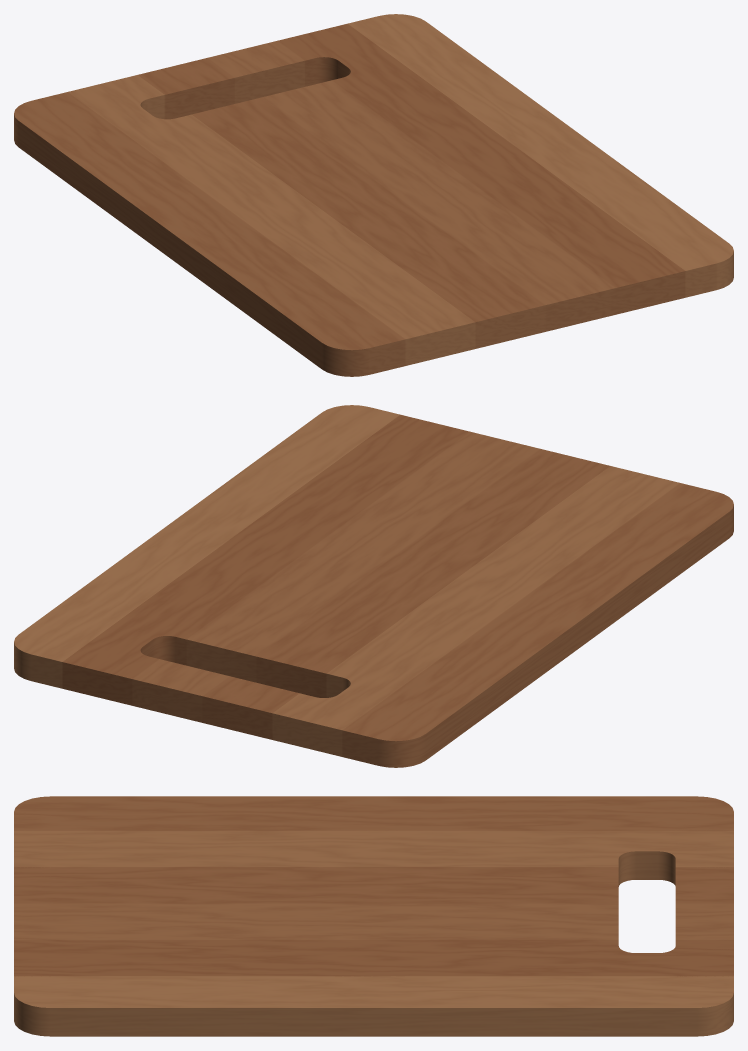
The model's file is cutting_board.glb.
The picture shows the model from 3 angles, top to bottom: view 1: azimuth 30°, elevation 25°; view 2: azimuth 150°, elevation 25°; view 3: azimuth 270°, elevation 25°; orthographic projection. The views are drawn at different scales.
Parts seen in each view (by area): view 1: Cube_0; view 2: Cube_0; view 3: Cube_0.
Part boxes in pixels (<box>): Cube_0: <box>14,14,733,376</box>; Cube_0: <box>14,405,733,767</box>; Cube_0: <box>14,796,733,1036</box>.
Size of the model in its own units: 4.16 by 0.2609 by 5.98.
1 material, 1 textured.
